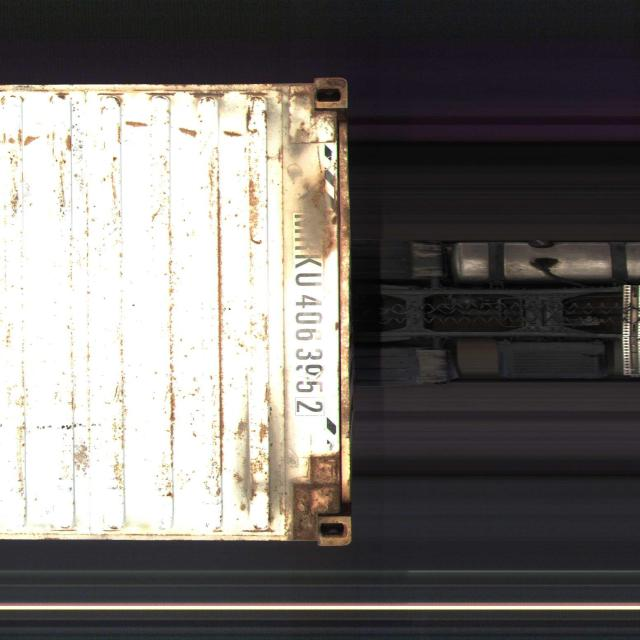rust: (294, 453, 346, 521)
